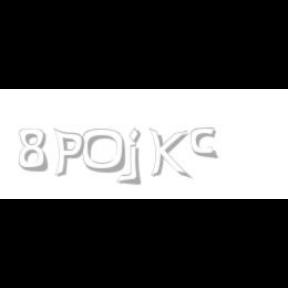8: (18, 128, 48, 172)
K: (148, 128, 188, 180)
O: (82, 128, 126, 174)
P: (53, 128, 85, 178)
c: (190, 128, 220, 160)
j: (126, 128, 156, 186)
